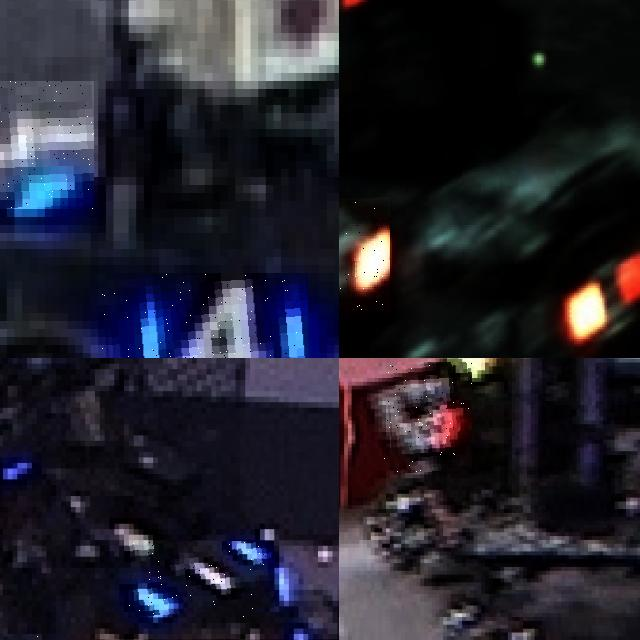B1: (124, 541, 274, 617)
B4: (102, 273, 307, 358), (0, 81, 94, 209)
R2: (384, 362, 472, 474)
Rs: (339, 198, 389, 312)
